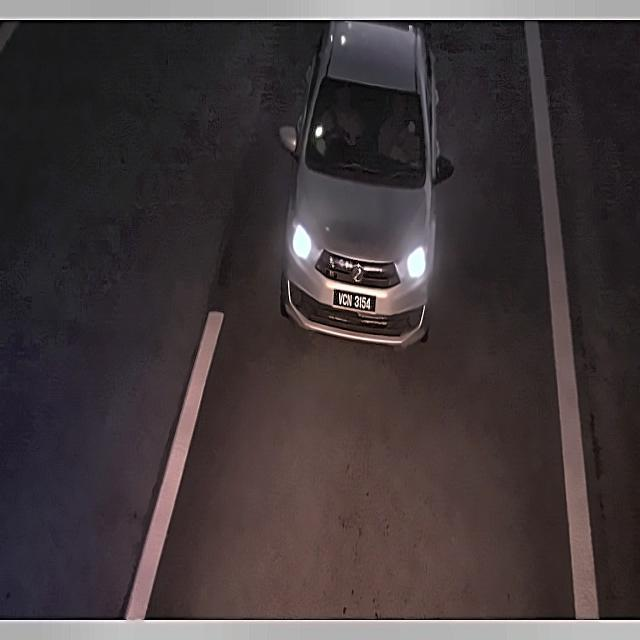car: (327, 283, 382, 317)
